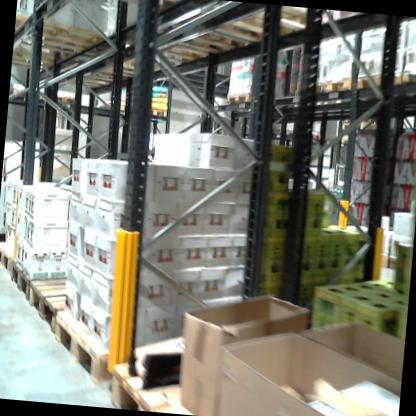pallet: (46, 307, 198, 402), (97, 355, 269, 416), (16, 266, 91, 343), (16, 12, 103, 55), (307, 67, 358, 108), (355, 61, 396, 103), (7, 259, 34, 302), (0, 237, 25, 278), (228, 86, 258, 109), (394, 66, 416, 95)
